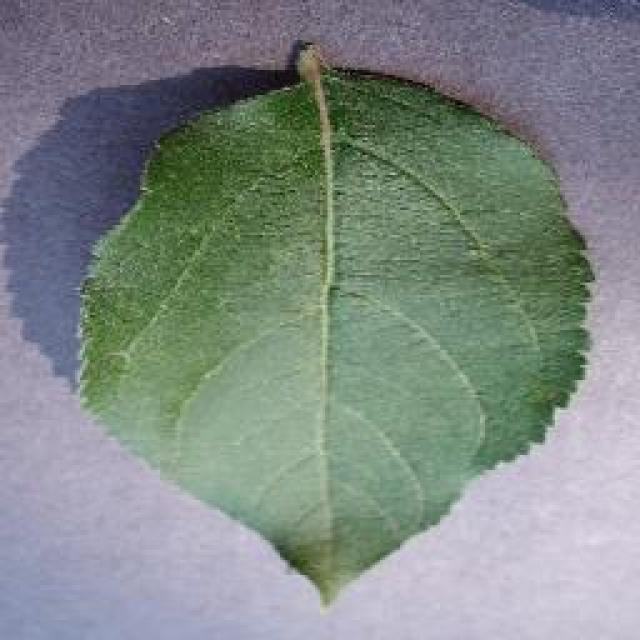apple healthy: (70, 38, 598, 608)
